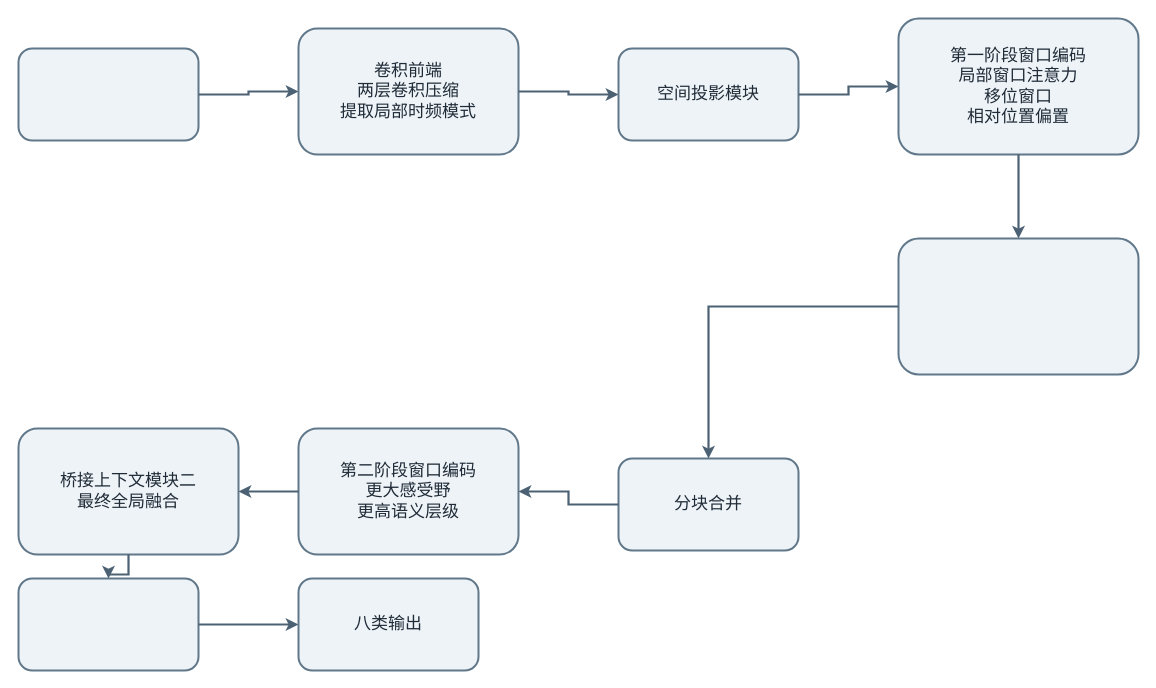
Some shapes in this 1156 by 688 pixel diagram are drawn without their labels. Each missing label, with the centre of its shape:
"均值池化" goes at point (108, 624).
"对数梅尔频谱" goes at point (108, 94).
"桥接上下文模块一 聚合阶段级全局摘要 回注入第一阶段特征" goes at point (1018, 306).
